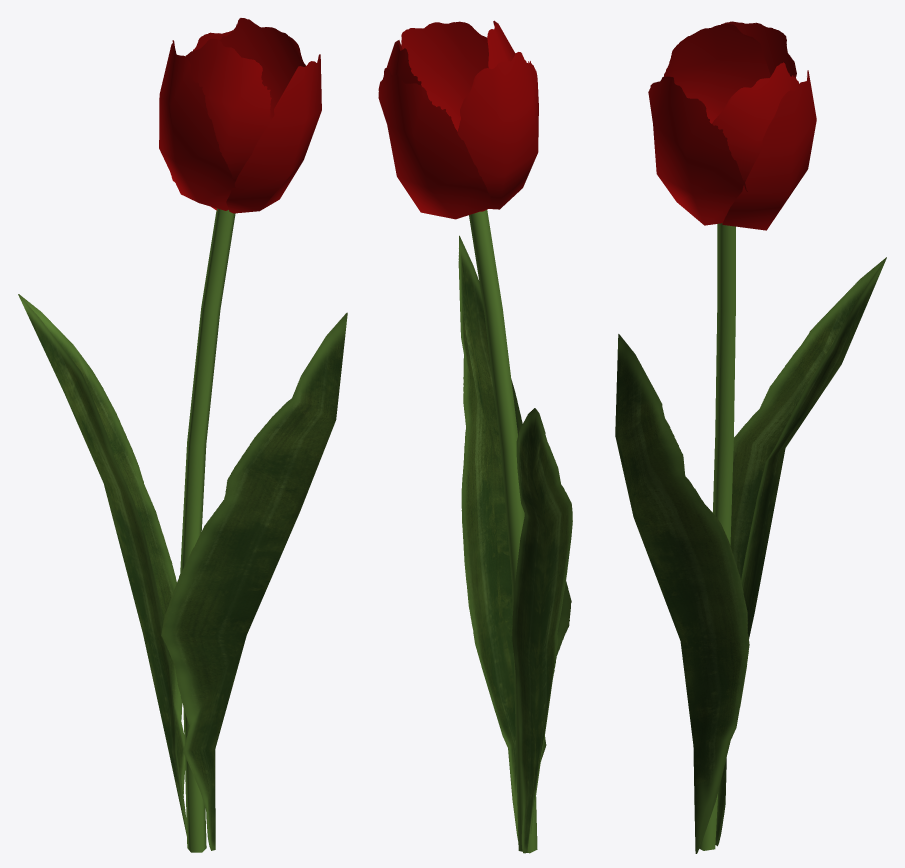
File: tulipred.fbx
3 views of the same model, side by side, from view 1: azimuth 30°, elevation 25°; view 2: azimuth 150°, elevation 25°; view 3: azimuth 270°, elevation 25° (orthographic). The views are drawn at different scales.
Visible parts, largest first — view 1: tulip_alutaroma_02; view 2: tulip_alutaroma_02; view 3: tulip_alutaroma_02.
Part boxes in pixels (x1,y1,x2,y2): tulip_alutaroma_02: (18, 18, 347, 852); tulip_alutaroma_02: (378, 20, 572, 853); tulip_alutaroma_02: (615, 21, 886, 853).
Bounding box in the file's own units: 8.96 × 30.73 × 9.1.
Materials: 2 (1 with a texture image).
